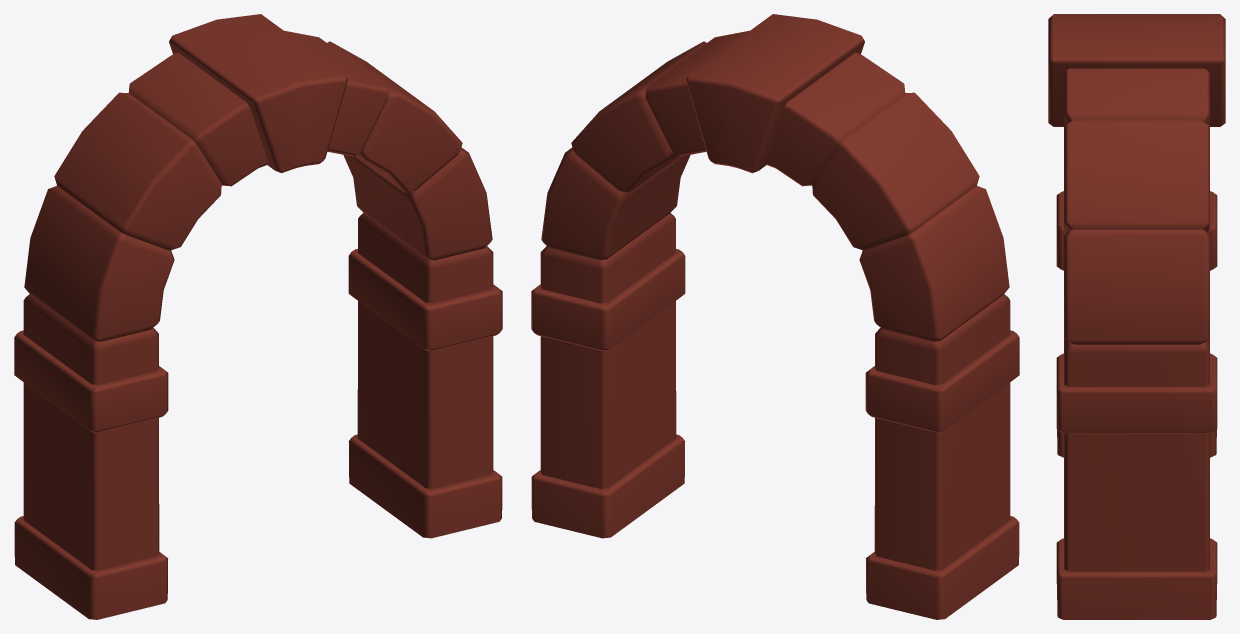
Rendered from arch_001.fbx.
3 renders of one model, left to right at view 1: azimuth 30°, elevation 25°; view 2: azimuth 150°, elevation 25°; view 3: azimuth 270°, elevation 25°, orthographic.
Visible parts, largest first — view 1: arch_001; view 2: arch_001; view 3: arch_001.
Part boxes in pixels (<box>): arch_001: <box>14,14,502,619</box>; arch_001: <box>531,14,1019,619</box>; arch_001: <box>1048,14,1225,619</box>.
Size of the model in its own units: 404 by 151 by 459.
